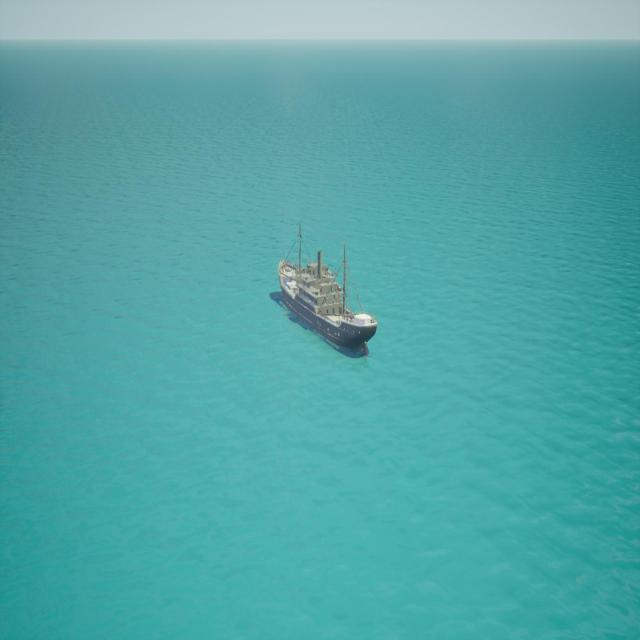fishing ship: (274, 225, 378, 356)
